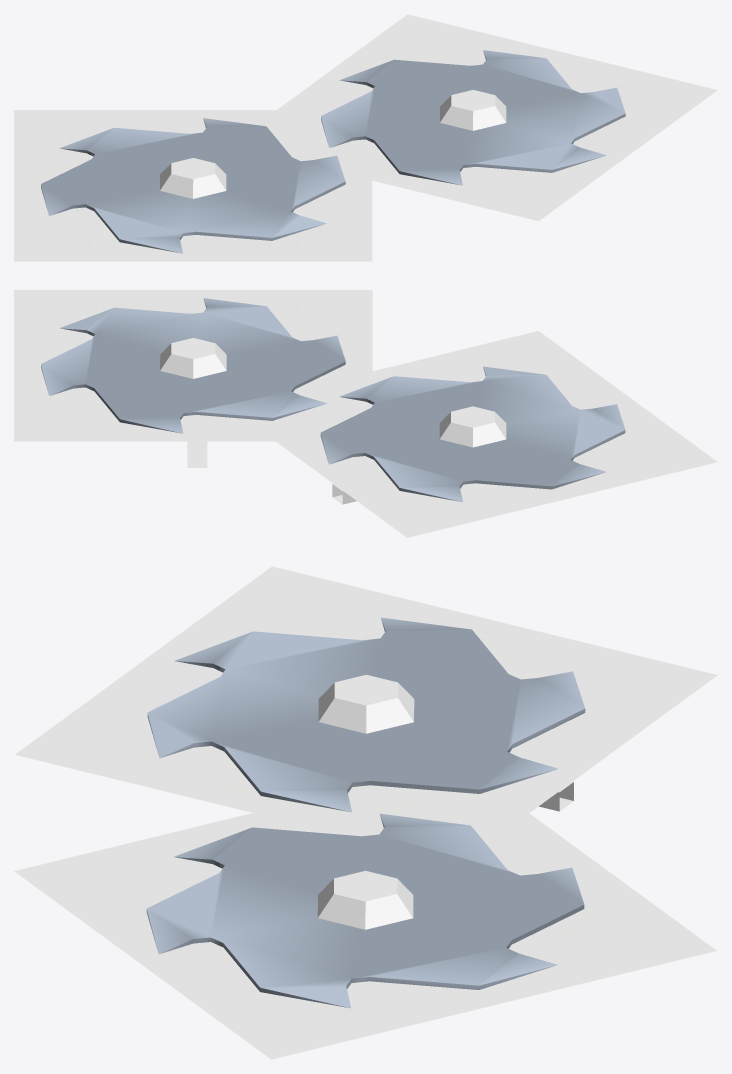
The model's file is saw 3.FBX.
The picture shows the model from 3 angles, top to bottom: view 1: azimuth 30°, elevation 25°; view 2: azimuth 150°, elevation 25°; view 3: azimuth 270°, elevation 25°; orthographic projection. The views are drawn at different scales.
Visible parts, largest first — view 1: Saw_Wind_FX, Saw_6_3, Saw_6_1, Saw_Wind_FX_1, Saw_6_cell, Saw_6_cell_1; view 2: Saw_Wind_FX_1, Saw_Wind_FX, Saw_6_1, Saw_6_3, Saw_6_cell, Saw_6_cell_1, Mounting_Saw_1; view 3: Saw_Wind_FX, Saw_6_1, Saw_6_3, Saw_Wind_FX_1, Saw_6_cell, Saw_6_cell_1.
Part boxes in pixels (x1,y1,x2,y2): Saw_Wind_FX: (14,110,372,261); Saw_6_3: (321,50,625,185); Saw_6_1: (41,118,345,253); Saw_Wind_FX_1: (277,14,717,221); Saw_6_cell: (160,158,226,198); Saw_6_cell_1: (440,90,506,130); Saw_Wind_FX_1: (14,290,372,441); Saw_Wind_FX: (246,331,717,537); Saw_6_1: (320,366,625,501); Saw_6_3: (41,298,345,433); Saw_6_cell: (439,406,506,447); Saw_6_cell_1: (160,338,226,378); Mounting_Saw_1: (187,441,207,467); Saw_Wind_FX: (15,566,717,843); Saw_6_1: (147,617,585,812); Saw_6_3: (146,813,584,1008); Saw_Wind_FX_1: (14,793,716,1059); Saw_6_cell: (318,674,414,733); Saw_6_cell_1: (317,870,413,929).
Bounding box in the file's own units: 496 × 32.93 × 299.
